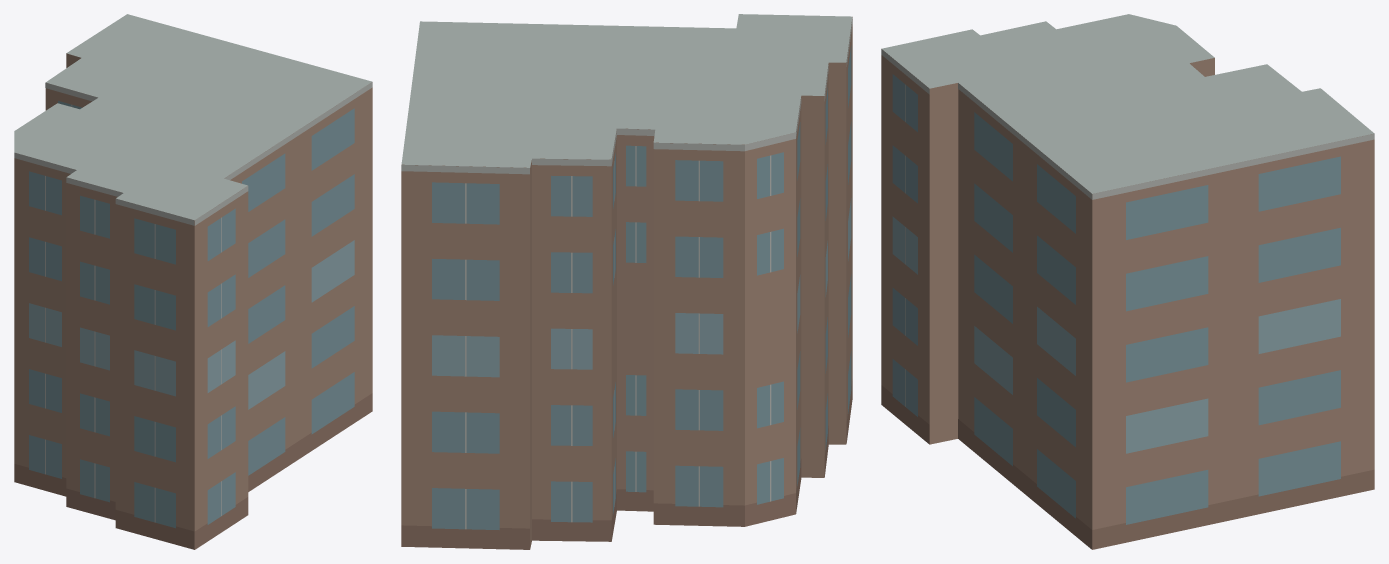
The model's file is survey-upis-32913587.glb.
3 renders of one model, left to right at view 1: azimuth 30°, elevation 25°; view 2: azimuth 150°, elevation 25°; view 3: azimuth 270°, elevation 25°, orthographic. The views are drawn at different scales.
Parts seen in each view (by area): view 1: survey-upis-32913587.tmp; view 2: survey-upis-32913587.tmp; view 3: survey-upis-32913587.tmp.
Boxes of the visible parts, x1,y1,x2,y2 form: survey-upis-32913587.tmp: (14, 14, 372, 549); survey-upis-32913587.tmp: (401, 14, 852, 549); survey-upis-32913587.tmp: (881, 14, 1374, 549).
Bounding box in the file's own units: 15.62 × 14.4 × 18.09.
